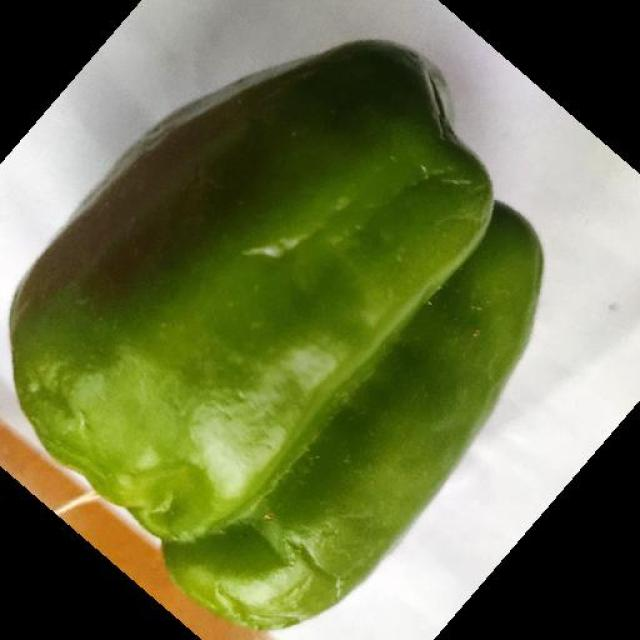Stale_Capsicum: (78, 160, 450, 519)
